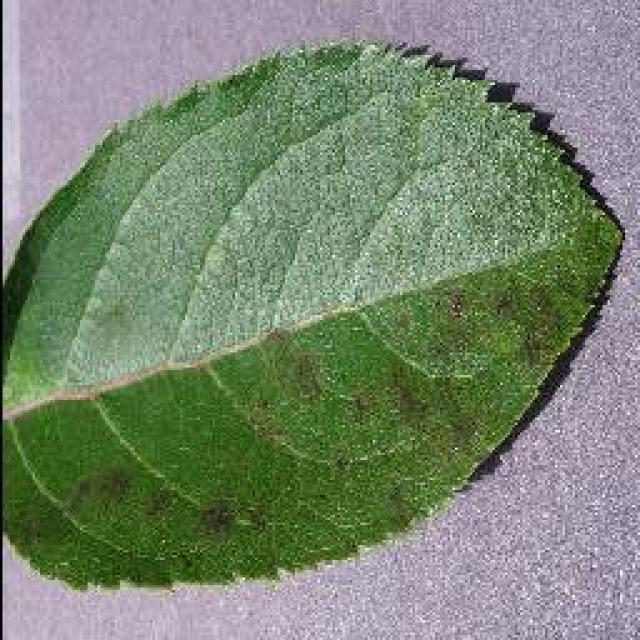apple scab disease: (0, 35, 625, 595)
